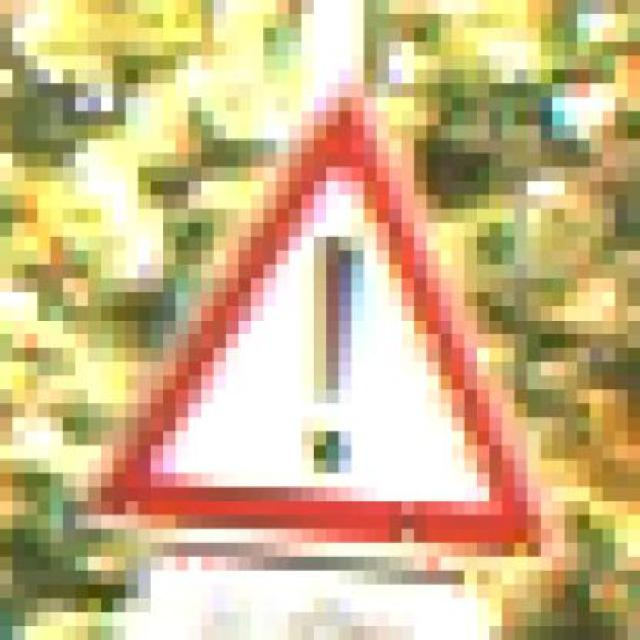Attention Please-: (75, 56, 552, 584)
